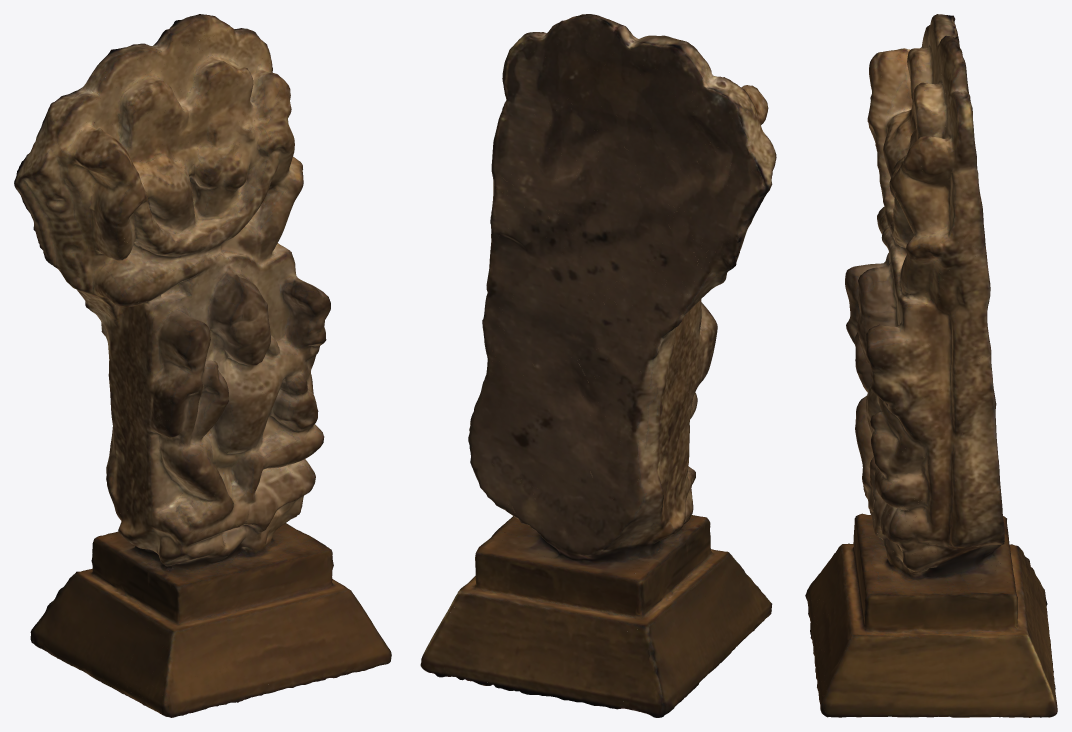
Rendered from shiva-garland-hi.glb.
3 views of the same model, side by side, from view 1: azimuth 30°, elevation 25°; view 2: azimuth 150°, elevation 25°; view 3: azimuth 270°, elevation 25° (orthographic). The views are drawn at different scales.
Visible parts, largest first — view 1: Object_3, Object_2; view 2: Object_2, Object_3; view 3: Object_2, Object_3.
Boxes of the visible parts, x1=… form: Object_3: x1=15, y1=14, x2=391, y2=713; Object_2: x1=14, y1=14, x2=391, y2=717; Object_2: x1=420, y1=14, x2=776, y2=717; Object_3: x1=438, y1=14, x2=771, y2=710; Object_2: x1=805, y1=14, x2=1057, y2=717; Object_3: x1=808, y1=15, x2=1056, y2=717.
Bounding box in the file's own units: 177 × 350 × 128.
Materials: 1 (1 with a texture image).
